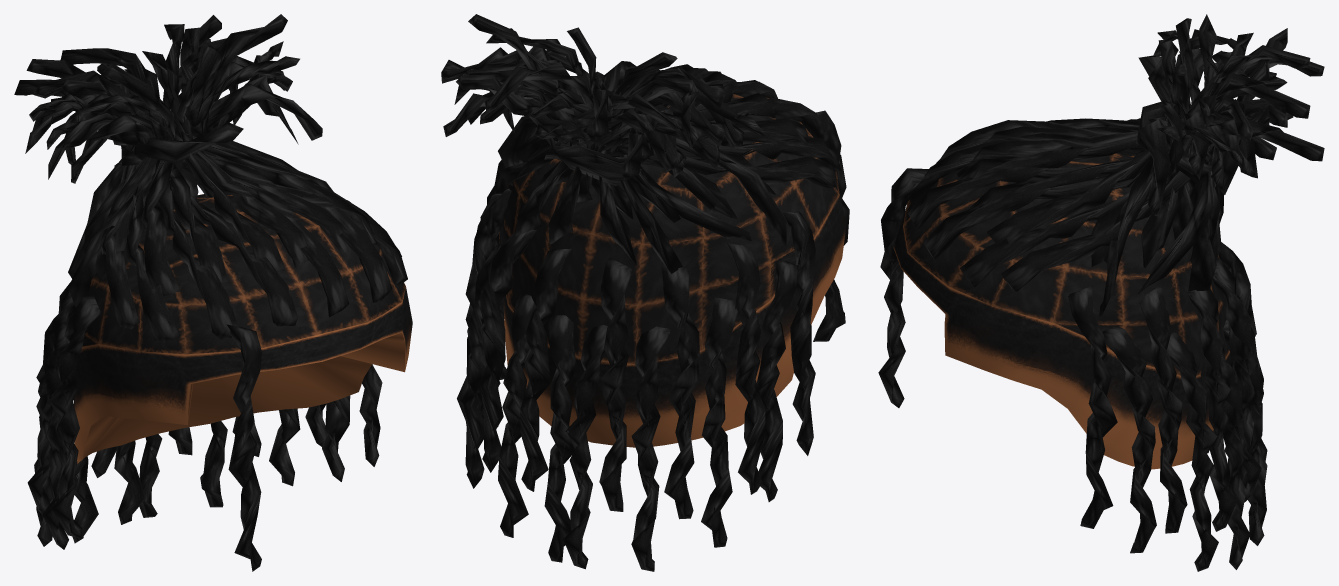
3 views of the same model, side by side, from view 1: azimuth 30°, elevation 25°; view 2: azimuth 150°, elevation 25°; view 3: azimuth 270°, elevation 25° (orthographic). The views are drawn at different scales.
Visible parts, largest first — view 1: geometry_0; view 2: geometry_0; view 3: geometry_0.
Part boxes in pixels (bbox=[...]): geometry_0: bbox=[14, 14, 412, 571]; geometry_0: bbox=[441, 14, 849, 571]; geometry_0: bbox=[878, 14, 1324, 571].
Bounding box in the file's own units: 1.39 × 2.01 × 1.66.
Materials: 1 (1 with a texture image).
